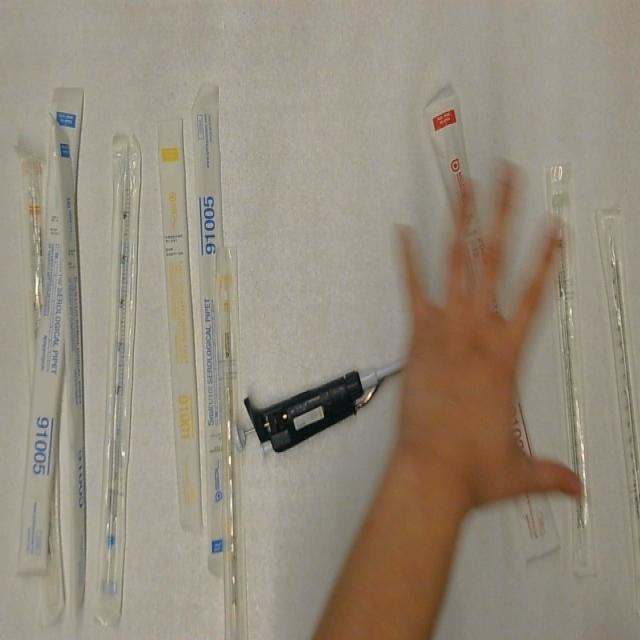Serelogical Pipet 1 mL: (155, 117, 204, 537), (214, 238, 246, 640)
Serelogical Pipet 10 mL: (14, 145, 53, 383)
Serelogical Pipet 2 mL: (538, 161, 602, 590)
Serelogical Pipet 25 mL: (422, 85, 565, 566)
Serelogical Pipet 5 mL: (15, 79, 86, 584), (92, 127, 148, 627), (189, 80, 242, 584), (49, 112, 85, 621)
Single Channel Pipettor: (229, 339, 427, 457)
